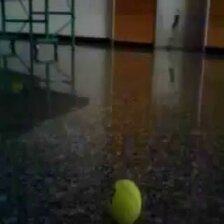tennis: (110, 179, 142, 224)
